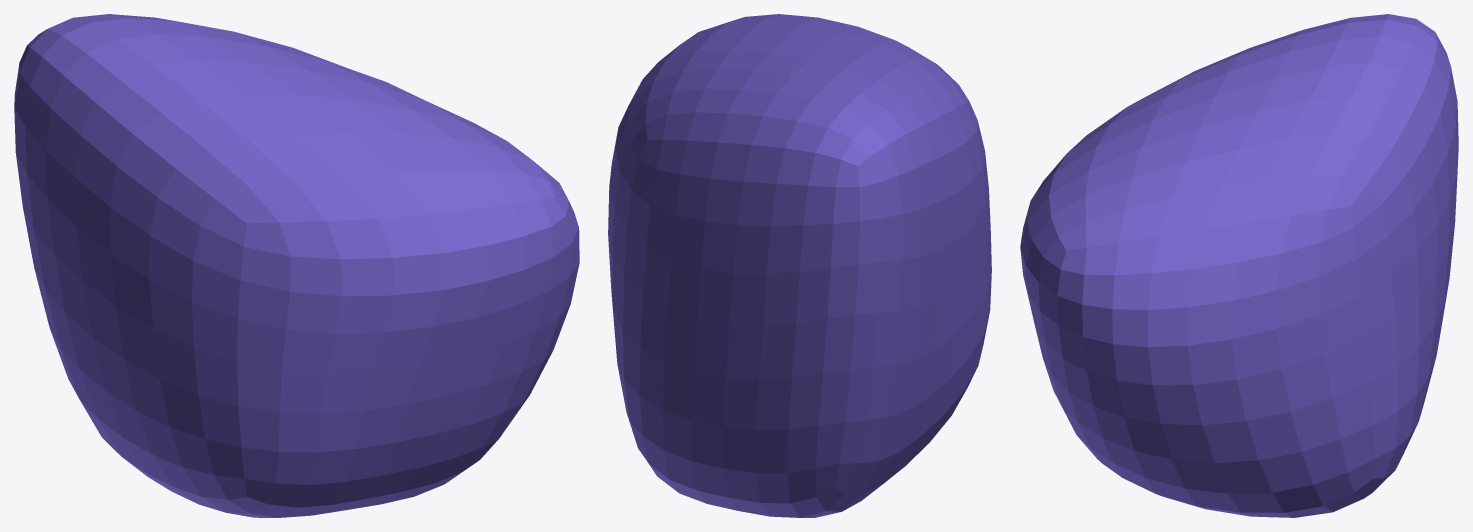
File: snow3.obj
The picture shows the model from 3 angles, left to right: view 1: azimuth 30°, elevation 25°; view 2: azimuth 150°, elevation 25°; view 3: azimuth 270°, elevation 25°; orthographic projection. The views are drawn at different scales.
Visible parts, largest first — view 1: Cube; view 2: Cube; view 3: Cube.
Part boxes in pixels (x1,y1,x2,y2): Cube: (14, 14, 579, 517); Cube: (608, 14, 991, 517); Cube: (1020, 14, 1458, 517).
Bounding box in the file's own units: 3.04 × 3.3 × 3.18.
